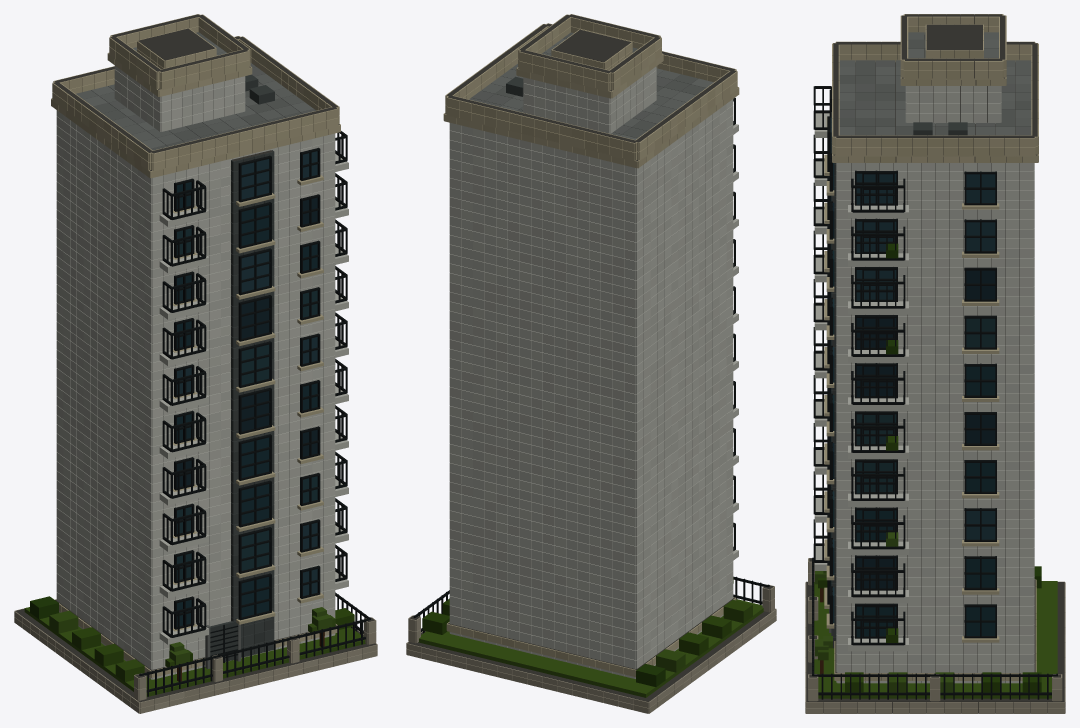
Rendered from SM_Mapa_056.fbx.
The picture shows the model from 3 angles, left to right: view 1: azimuth 30°, elevation 25°; view 2: azimuth 150°, elevation 25°; view 3: azimuth 270°, elevation 25°; orthographic projection. The views are drawn at different scales.
Parts seen in each view (by area): view 1: SM_Mapa_056; view 2: SM_Mapa_056; view 3: SM_Mapa_056.
Part boxes in pixels (box(x1,y1,x2,y2)): SM_Mapa_056: box(14, 14, 377, 713); SM_Mapa_056: box(406, 14, 776, 713); SM_Mapa_056: box(805, 14, 1065, 713).
Size of the model in its own units: 14 by 12.78 by 33.13.
